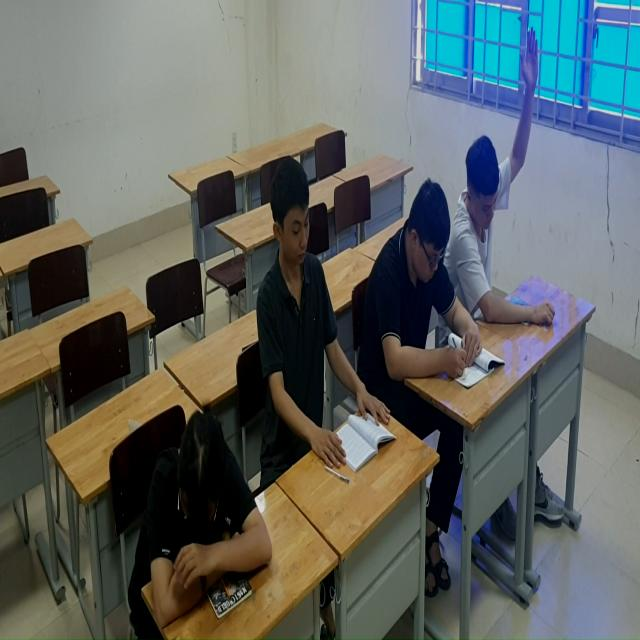raise_hand: (454, 23, 542, 350)
read: (252, 162, 397, 483), (373, 178, 507, 398)
sleep: (120, 402, 278, 624)
